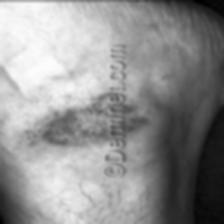Non-Cancerous Skin Condition: (16, 86, 105, 156), (128, 79, 170, 134)
